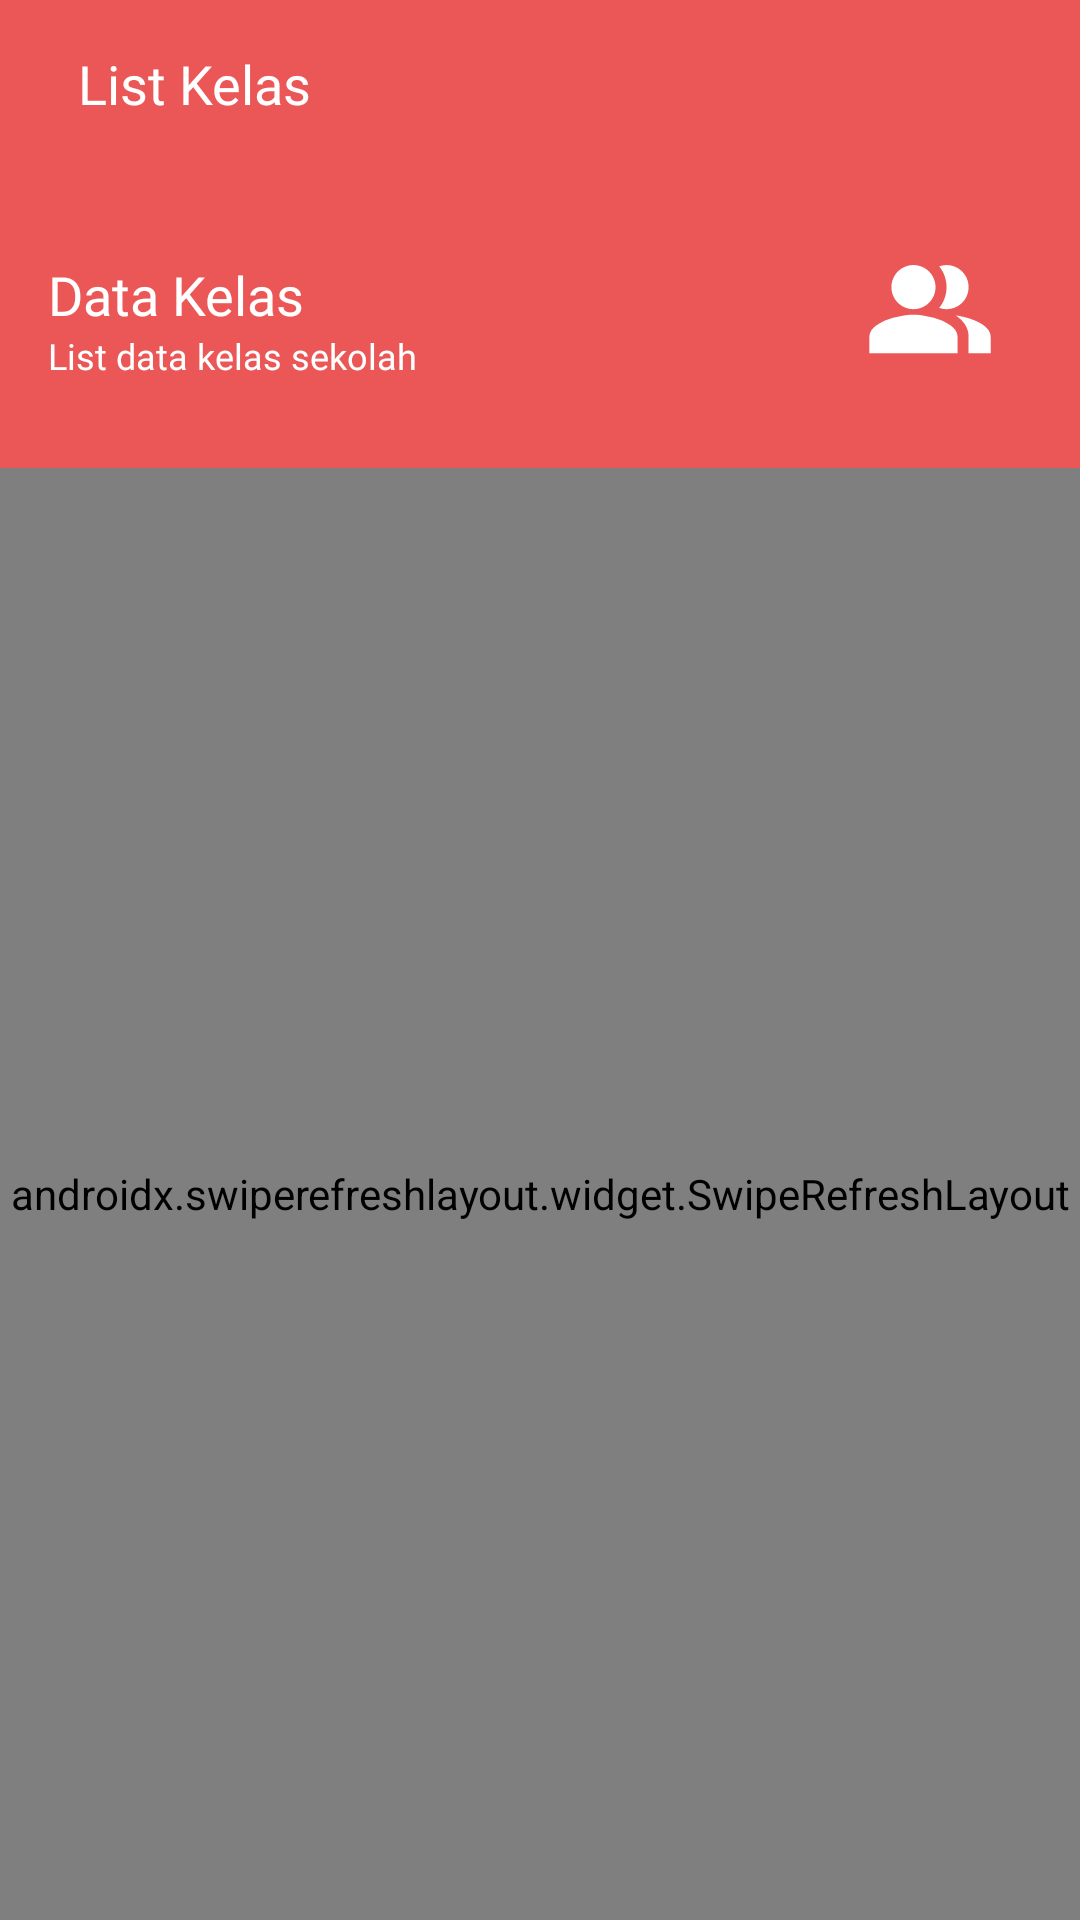

Named icons in this screenshot (1080x1920) and their bounding boxes, bbox=(x1, y1, x2, y2):
data guru: bbox=(869, 265, 991, 354)
